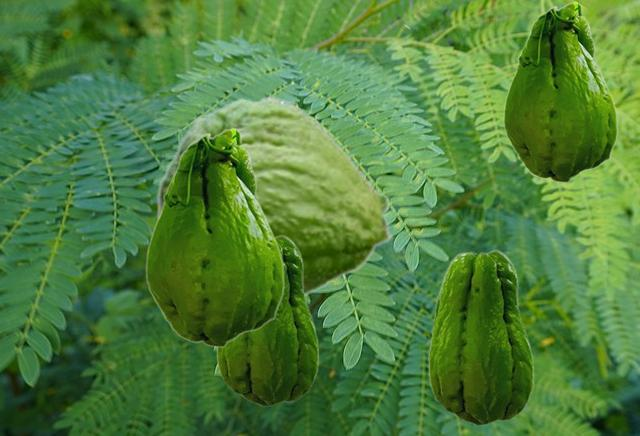sayote: (156, 95, 394, 297), (145, 127, 284, 347), (503, 1, 617, 182), (428, 249, 533, 425), (216, 234, 318, 406)
